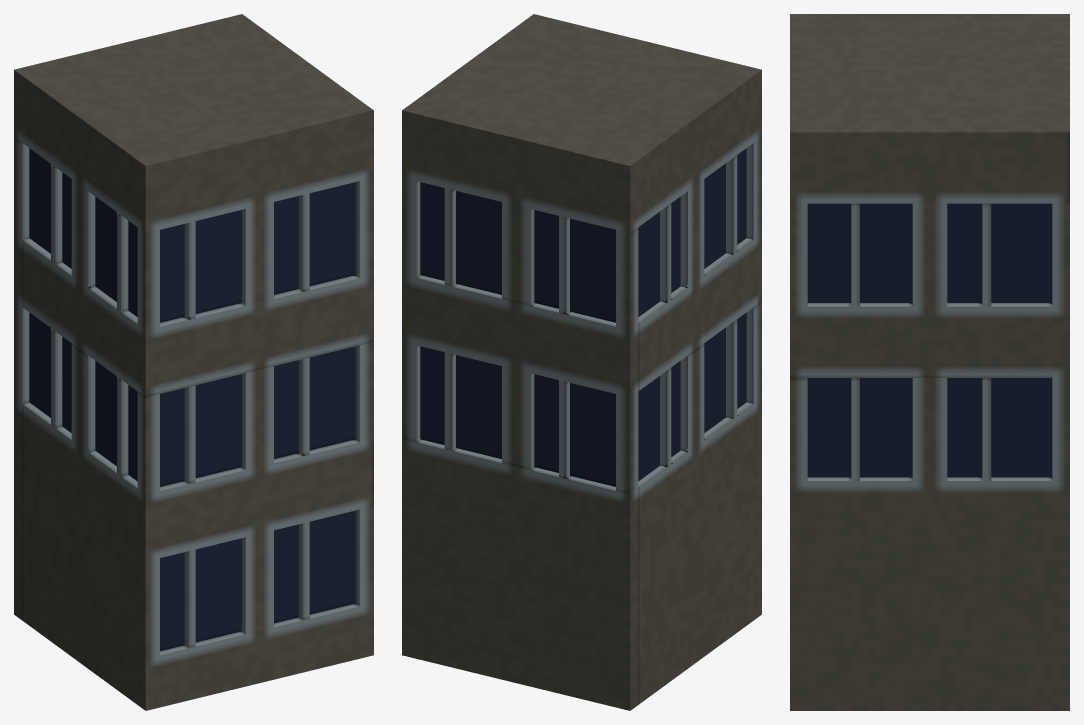
The model's file is budynek_uni2_6.dae.
3 renders of one model, left to right at view 1: azimuth 30°, elevation 25°; view 2: azimuth 150°, elevation 25°; view 3: azimuth 270°, elevation 25°, orthographic. The views are drawn at different scales.
Parts seen in each view (by area): view 1: Content; view 2: Content; view 3: Content.
Boxes of the visible parts, bbox=[...] form: Content: bbox=[14, 14, 373, 710]; Content: bbox=[402, 14, 761, 710]; Content: bbox=[790, 14, 1069, 710].
Size of the model in its own units: 32 by 73 by 32.
1 material, 1 textured.
